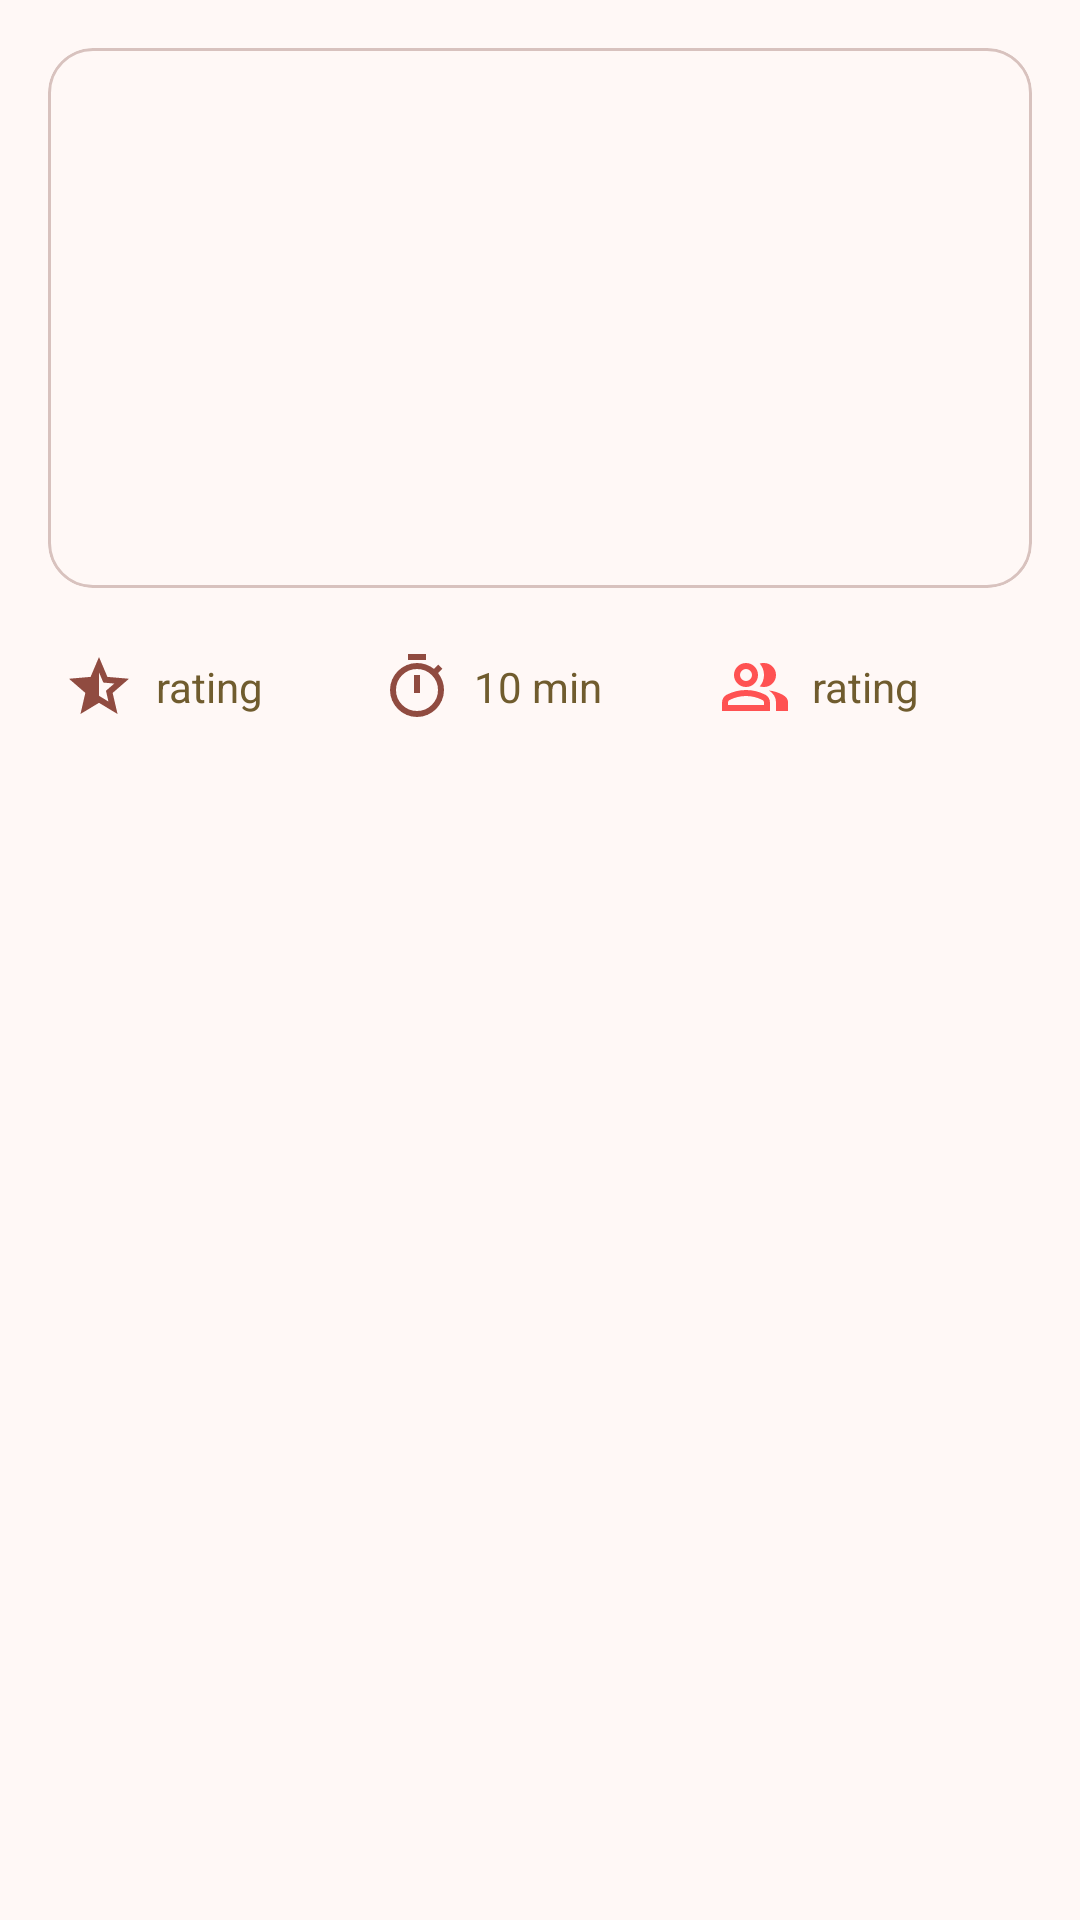

Where to tap for icons on this 1080 x 1920 app screen, as (x,y):
servings: (755,687)
time: (417,685)
